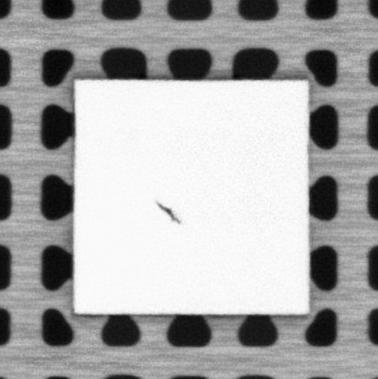DIE_INK: (154, 199, 181, 224)
